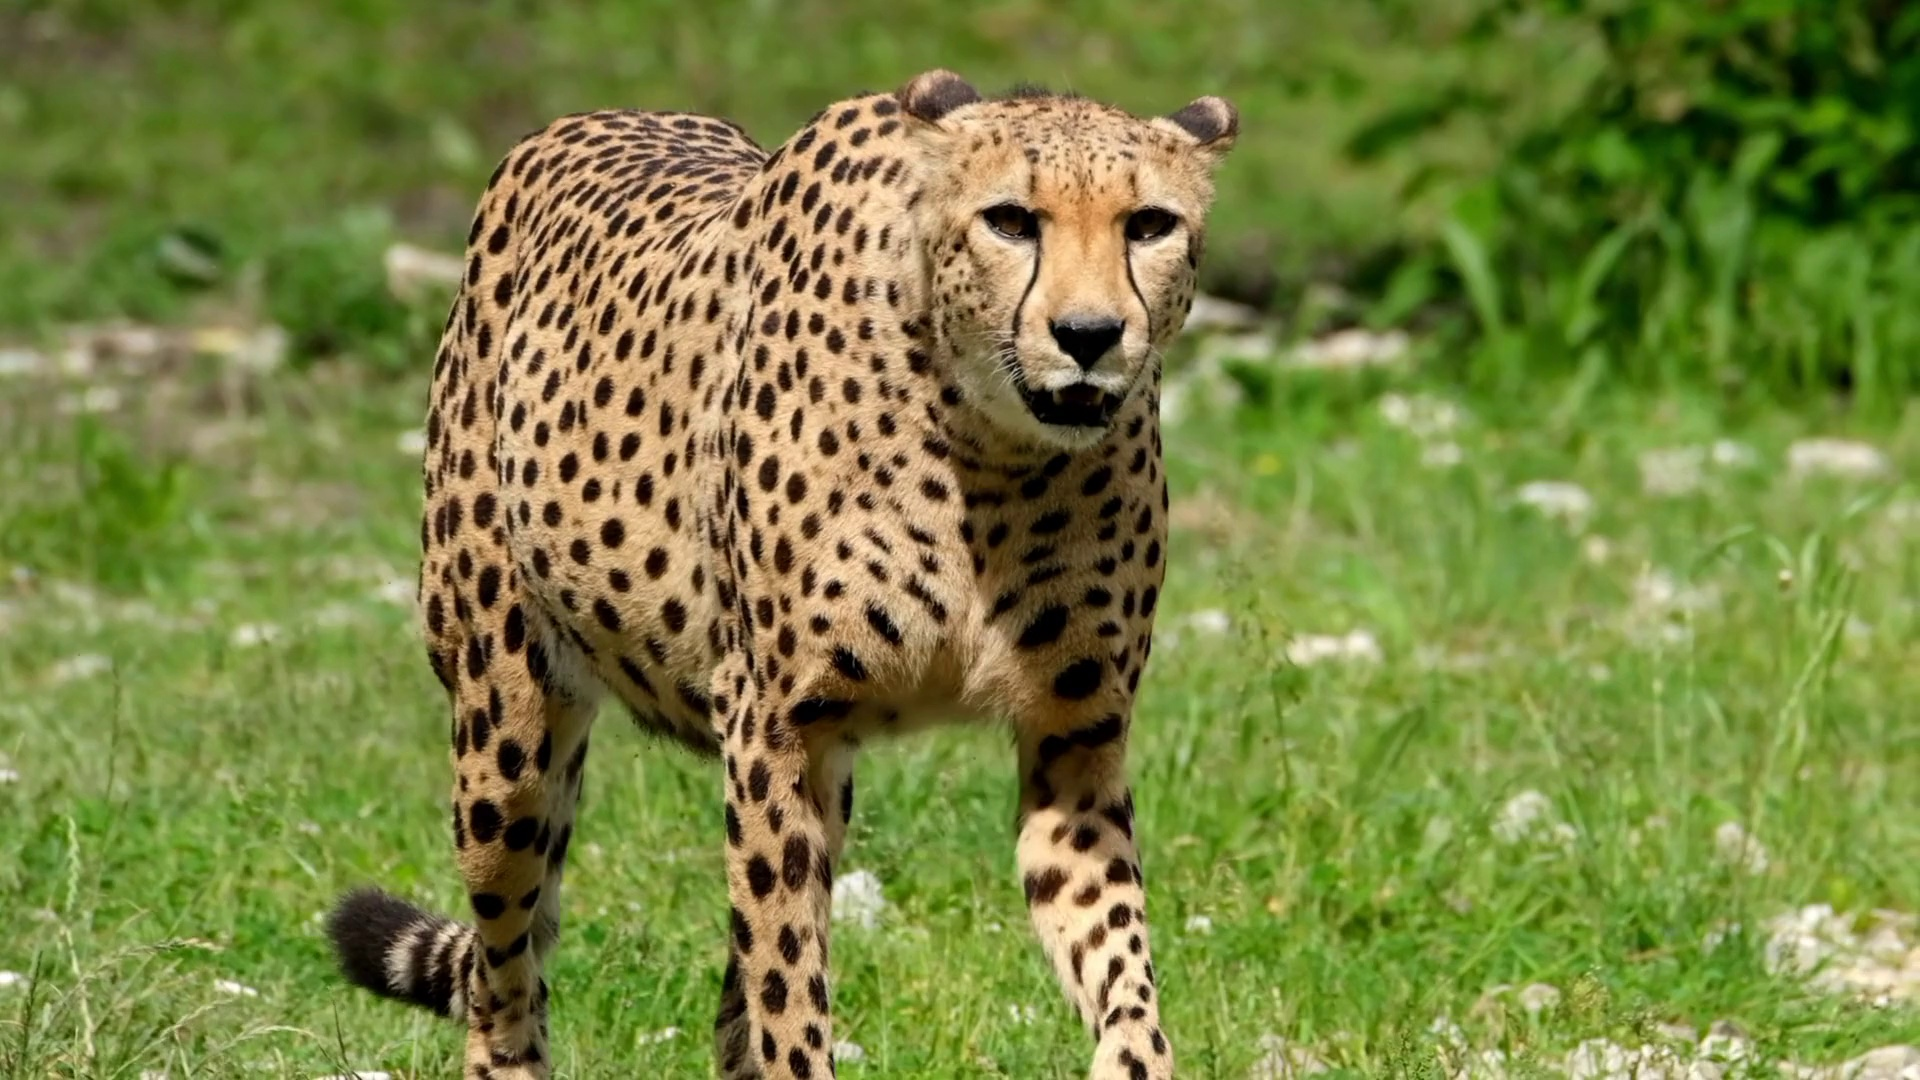Cheetah: (316, 61, 1255, 1080)
